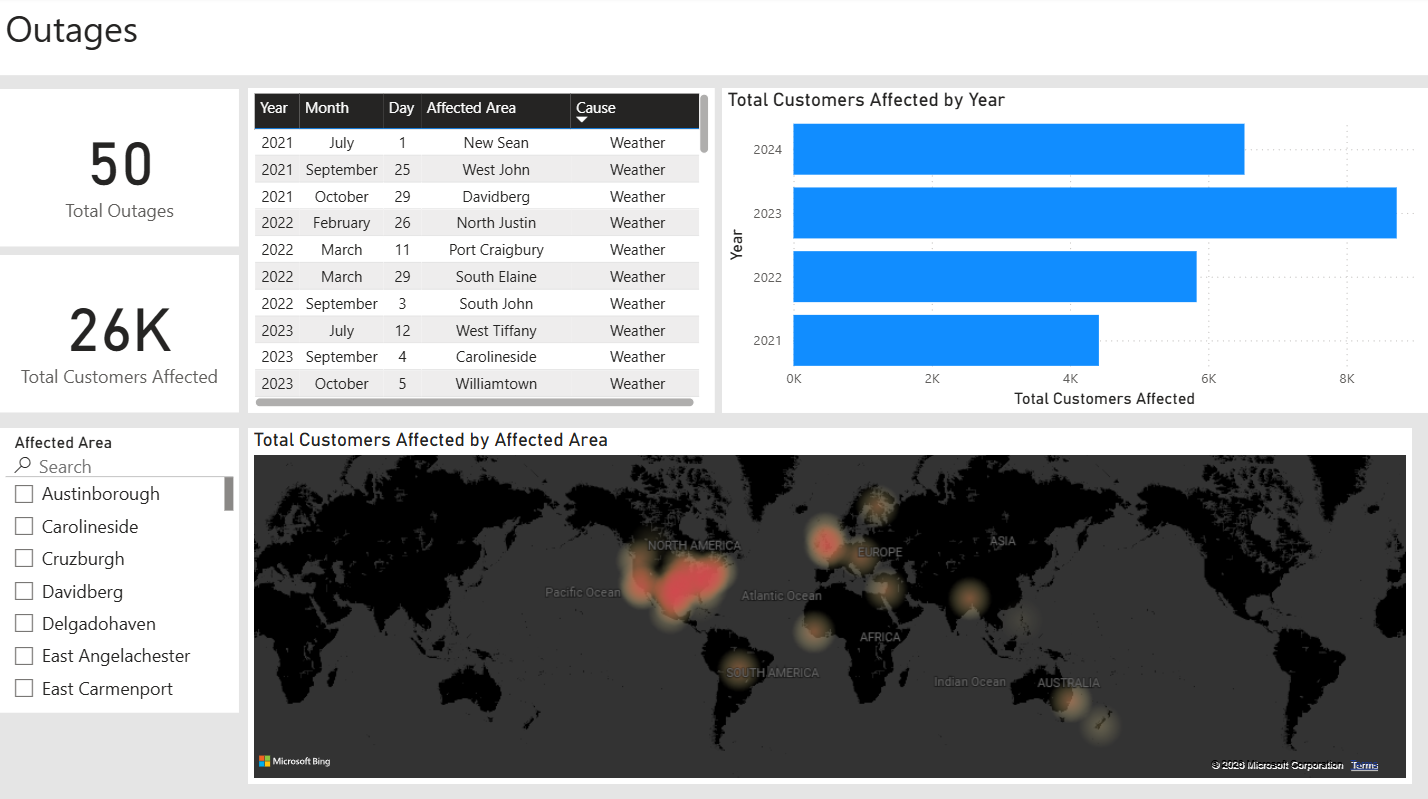

This screenshot's page, from the dashboard's own definition file:
{"tool":"powerbi","page":{"name":"Outages","canvas":[1280,720],"ordinal":4},"visuals":[{"type":"textbox","box":[0,0,1280,70],"z":0},{"type":"card","fields":{"Values":["Measures (2).Total Outages"]},"box":[0,82.7,214,141],"z":1000},{"type":"card","fields":{"Values":["Sum(outages.customers_affected)"]},"box":[0,231.5,214,141],"z":2000},{"type":"tableEx","fields":{"Values":["outages.start_time.Variation.Date Hierarchy.Year","outages.start_time.Variation.Date Hierarchy.Month","outages.start_time.Variation.Date Hierarchy.Day","outages.affected_area","outages.cause"]},"box":[221.8,81.7,418.2,290.8],"z":3000},{"type":"slicer","fields":{"Values":["outages.affected_area"]},"box":[0,386.1,214,254.8],"z":4000},{"type":"barChart","fields":{"Category":["outages.start_time.Variation.Date Hierarchy.Year"],"Y":["Measures (2).Total Customers Affected"]},"box":[646.8,81.7,633.2,290.8],"z":5000},{"type":"map","fields":{"Category":["outages.affected_area"],"Size":["Measures (2).Total Customers Affected"]},"box":[221.8,386.1,1041.7,318.1],"z":6000}]}

Visuals, with their boxes in screenshot pixels (x1, y1, x2, y2), scaled from the page's 1280x720 canvas onto the 1428x799 screenshot:
textbox: region(0, 0, 1427, 78)
card - Measures (2).Total Outages: region(0, 92, 239, 248)
card - Sum(outages.customers_affected): region(0, 257, 239, 413)
tableEx - outages.start_time.Variation.Date Hierarchy.Year x outages.start_time.Variation.Date Hierarchy.Month: region(247, 91, 714, 413)
slicer - outages.affected_area: region(0, 428, 239, 711)
barChart - outages.start_time.Variation.Date Hierarchy.Year x Measures (2).Total Customers Affected: region(722, 91, 1427, 413)
map - outages.affected_area x Measures (2).Total Customers Affected: region(247, 428, 1410, 781)
